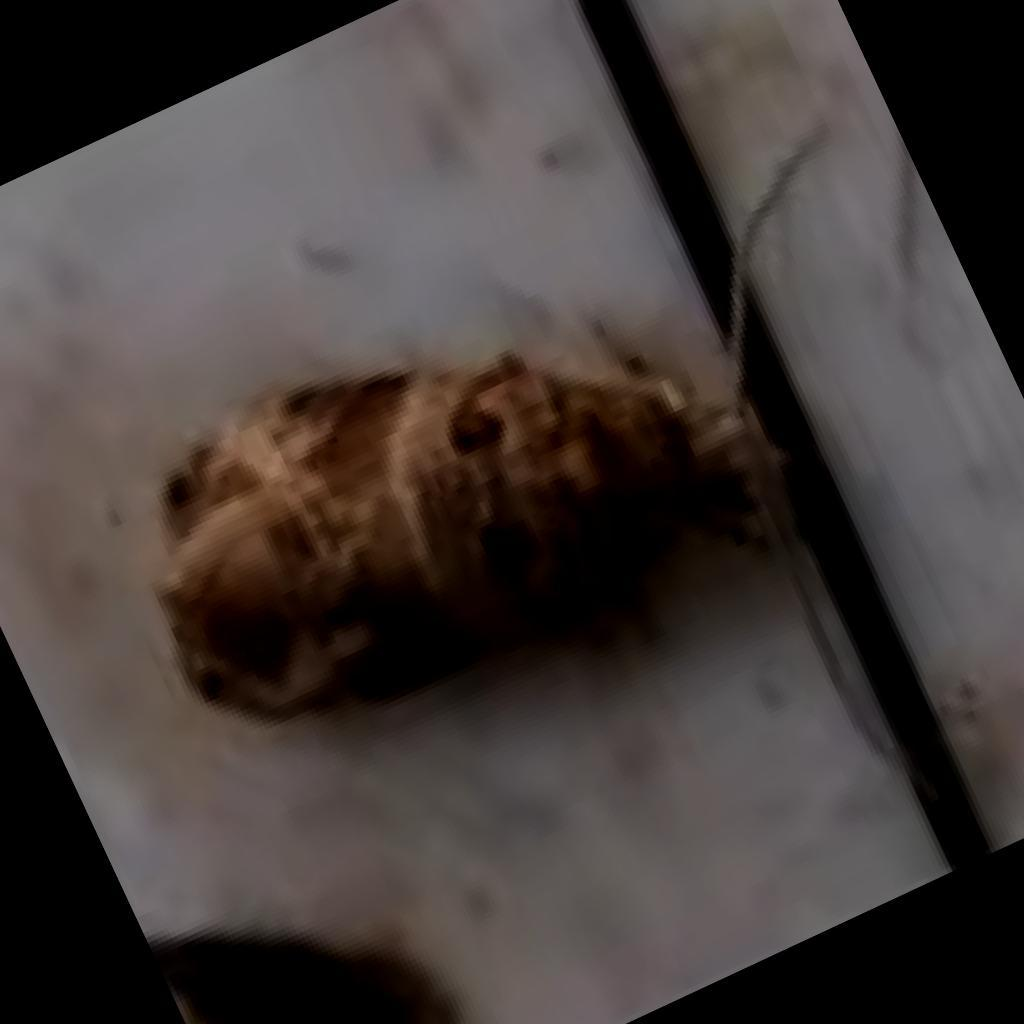grape_moth: (156, 107, 915, 758)
